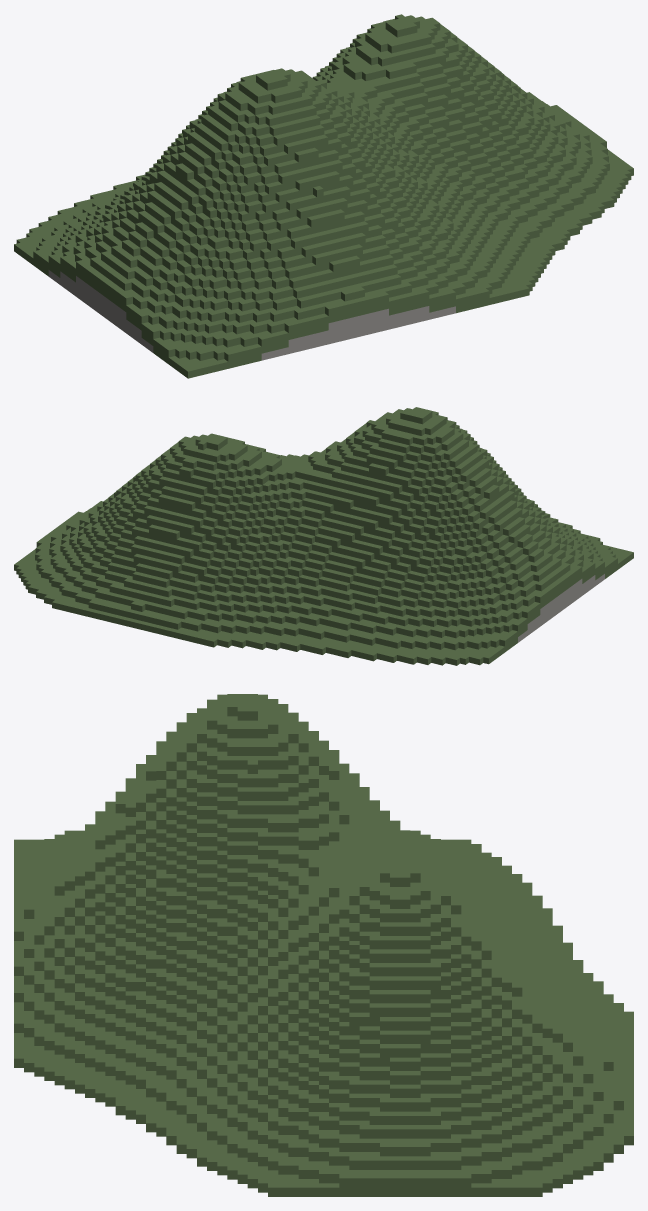
File: colina.obj
3 views of the same model, one above another, from view 1: azimuth 30°, elevation 25°; view 2: azimuth 150°, elevation 25°; view 3: azimuth 270°, elevation 25° (orthographic). The views are drawn at different scales.
Size of the model in its own units: 81 by 28 by 61.
